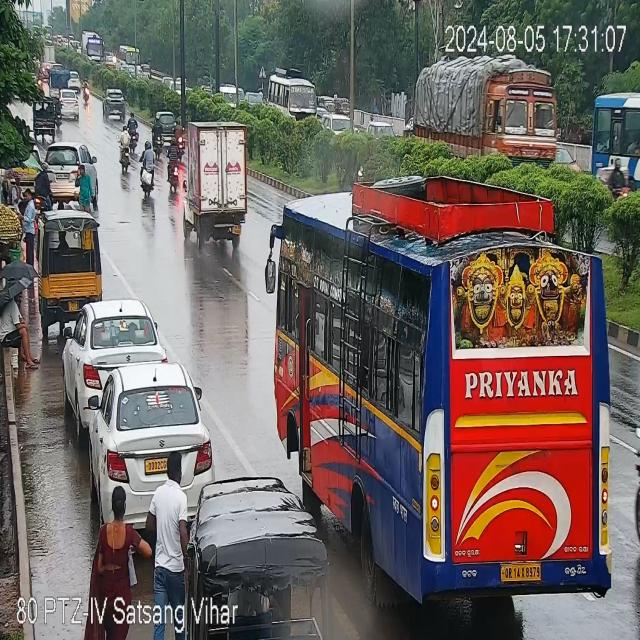2-wheelers: (139, 140, 157, 196), (167, 140, 181, 198), (120, 124, 132, 174), (126, 109, 140, 149), (154, 110, 164, 156)
auto: (197, 476, 317, 586), (43, 216, 99, 322)
bus: (257, 174, 618, 592), (592, 88, 640, 234), (264, 64, 320, 130), (81, 30, 107, 66), (119, 47, 139, 67)
car: (98, 359, 202, 515), (64, 293, 150, 414), (48, 142, 98, 198), (101, 85, 128, 123), (60, 84, 84, 126), (162, 104, 176, 136)
pedestrian: (152, 452, 192, 596), (92, 483, 136, 593), (1, 276, 38, 372), (19, 186, 34, 266), (75, 160, 95, 216)
truck: (407, 50, 558, 164), (180, 113, 248, 253)
